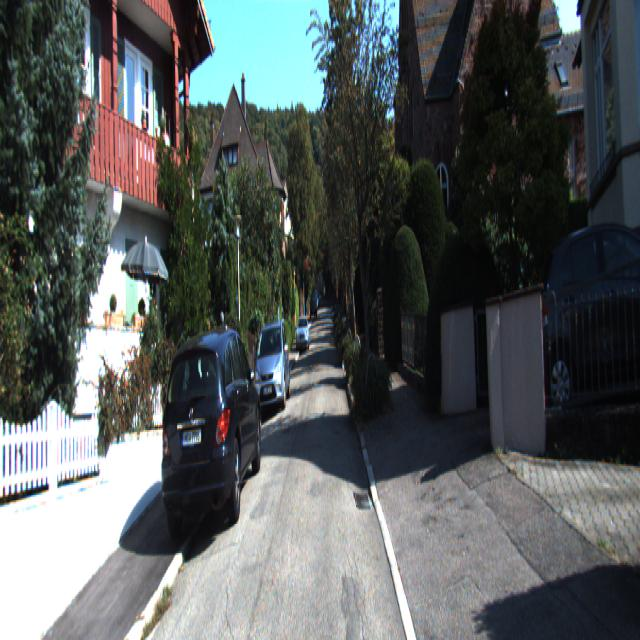Car: (161, 313, 263, 547), (544, 210, 640, 445), (254, 315, 291, 412), (296, 316, 310, 352)
